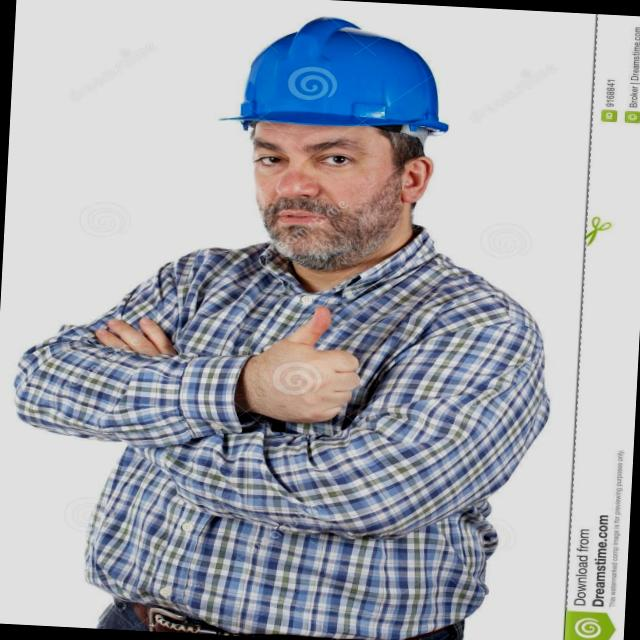helmet: (214, 9, 463, 138)
no-vest: (123, 227, 552, 640)
